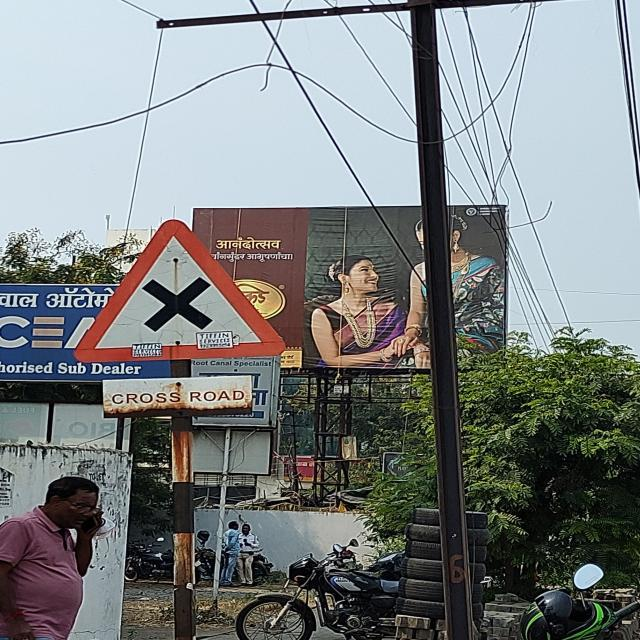cross road: (72, 219, 288, 365)
